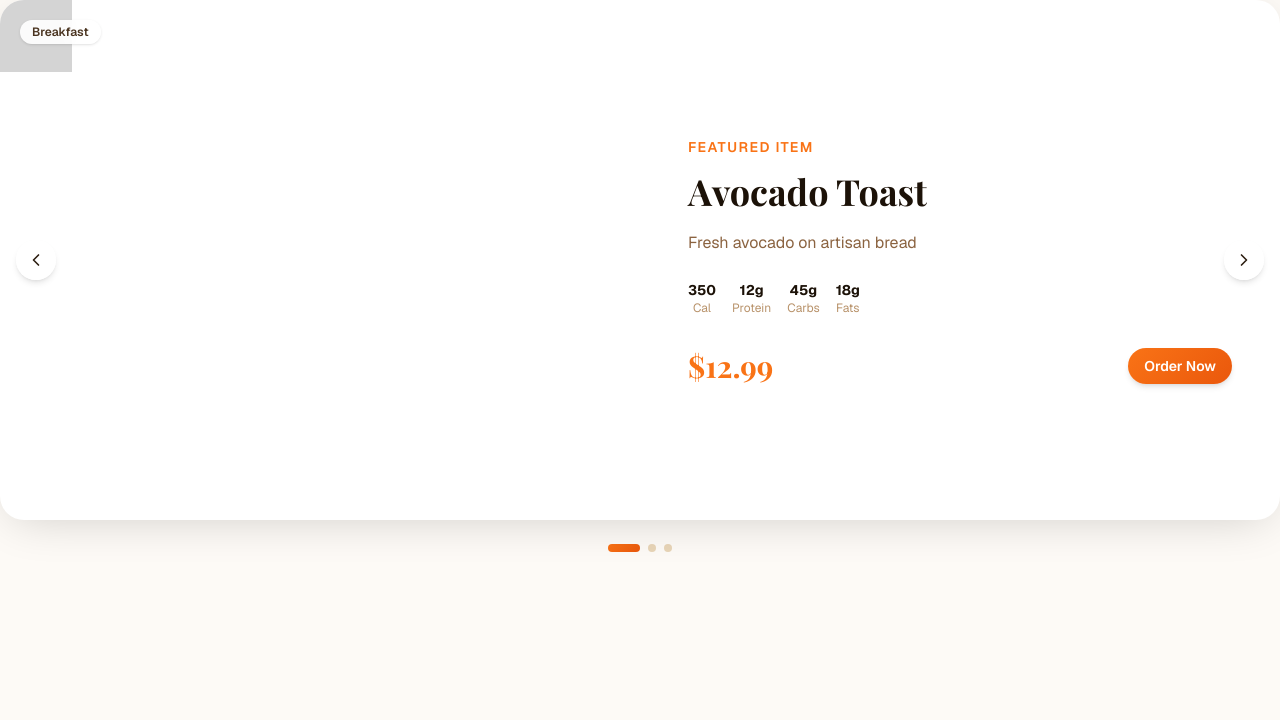
Carousel › navigates to previous item when previous button is clicked
The image size is (1280, 720).
Click the button named "Previous item".
click(36, 260)  # box [16,240,56,280]
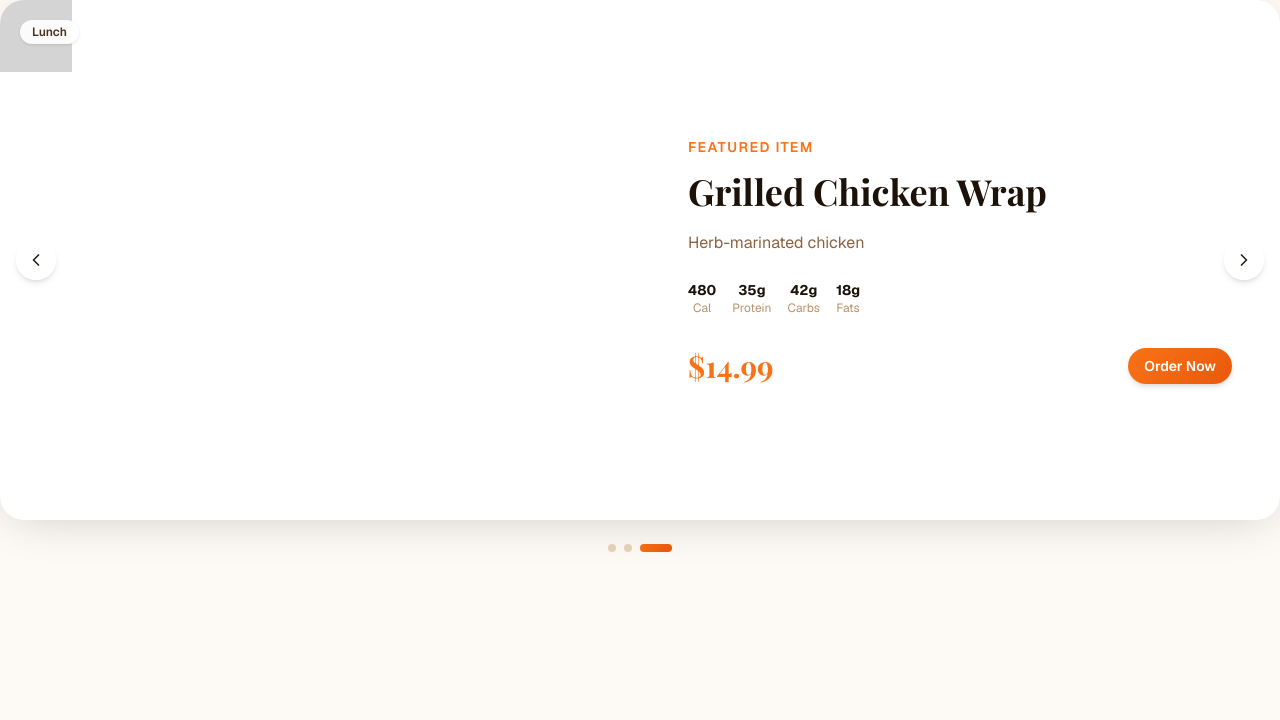
Check: the heading "Grilled Chicken Wrap" is shown, box [688,166,1047,214]
